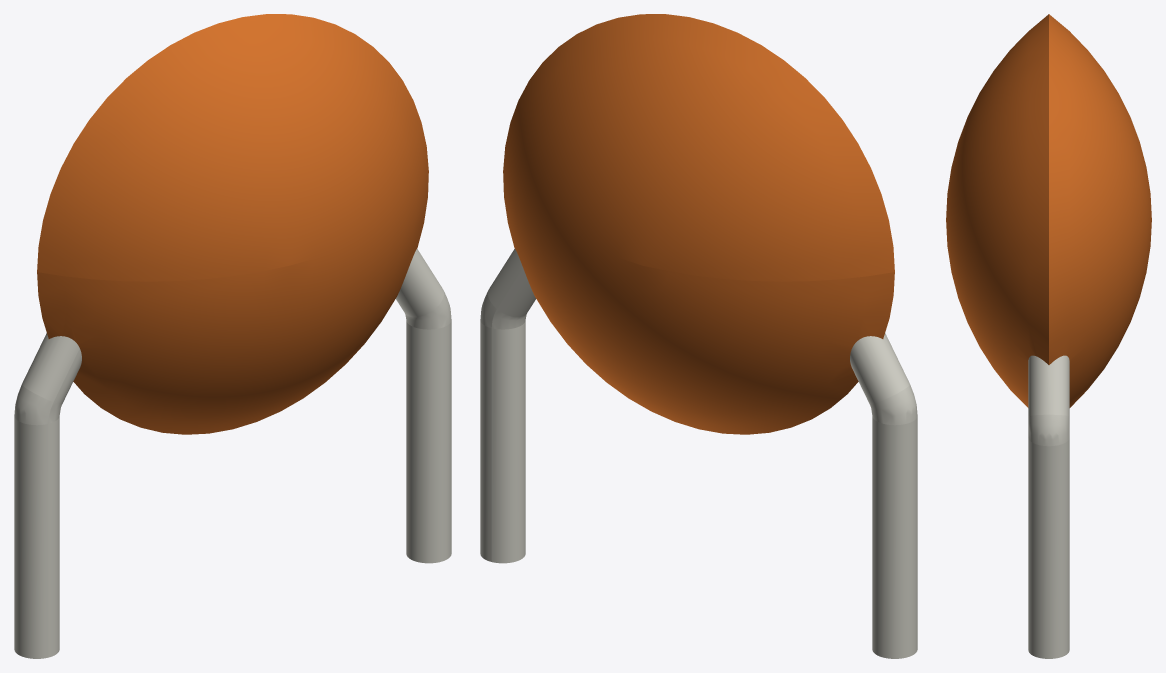
File: capacitor-ceramic.glb
3 views of the same model, side by side, from view 1: azimuth 30°, elevation 25°; view 2: azimuth 150°, elevation 25°; view 3: azimuth 270°, elevation 25° (orthographic). The views are drawn at different scales.
Visible parts, largest first — view 1: capacitor-ceramic-1; view 2: capacitor-ceramic-1; view 3: capacitor-ceramic-1.
Part boxes in pixels (x1,y1,x2,y2): capacitor-ceramic-1: [14, 14, 451, 658]; capacitor-ceramic-1: [480, 14, 917, 658]; capacitor-ceramic-1: [946, 14, 1151, 658].
Bounding box in the file's own units: 0.0055 × 0.0071 × 0.0025.
